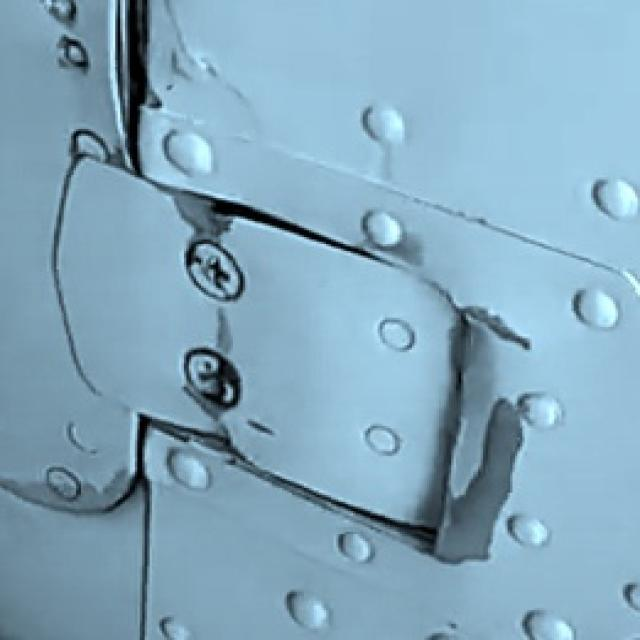crack: (206, 316, 226, 348)
